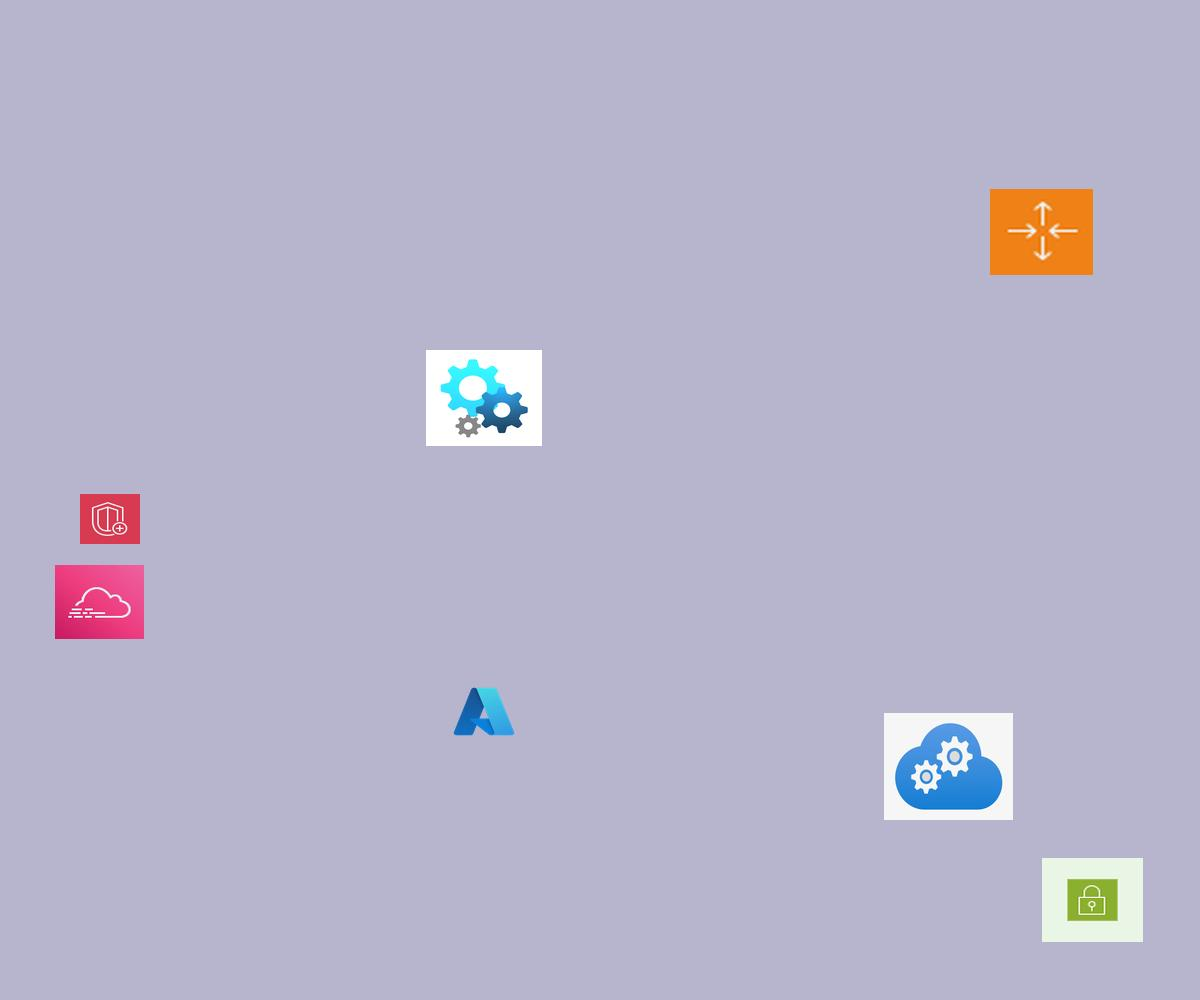AWS-CloudTrail: (55, 565, 144, 639)
AWS-Public-subnet: (1042, 858, 1143, 942)
AWS-Scaling-group: (990, 189, 1093, 275)
AWS-Shield: (80, 494, 140, 544)
Azure_api: (426, 350, 542, 446)
Azure_cloud_services: (884, 713, 1013, 820)
Azure_services: (451, 684, 517, 739)
